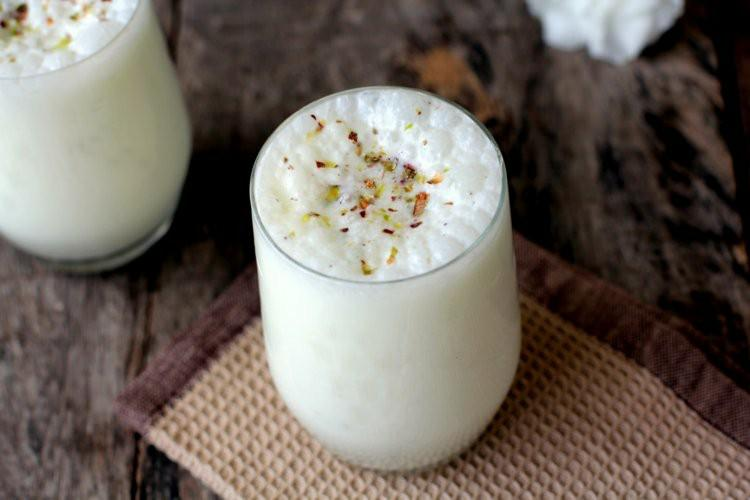Lassi: (251, 87, 521, 468), (1, 1, 191, 259)
